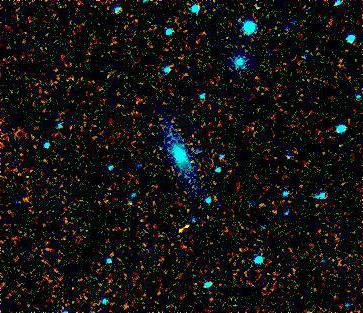star: (168, 217, 198, 247)
